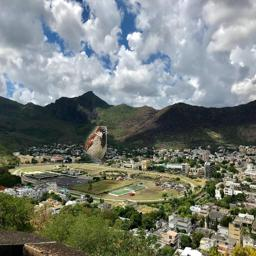Sparrow: (83, 126, 107, 165)
